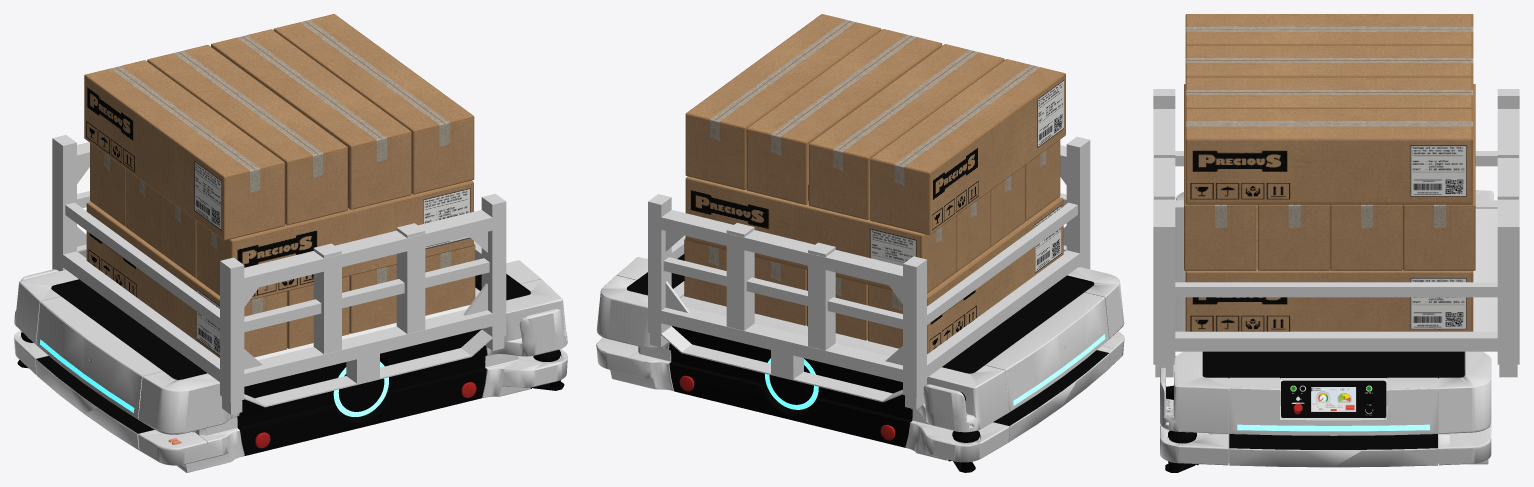
File: IndustrialAGV.glb
The picture shows the model from 3 angles, left to right: view 1: azimuth 30°, elevation 25°; view 2: azimuth 150°, elevation 25°; view 3: azimuth 270°, elevation 25°; orthographic projection. The views are drawn at different scales.
Visible parts, largest first — view 1: Package Set (7), geo_orange_1, geo_aluminium_3, geo_black_matte_1, Cube.005, Cube.001, geo_black_7, geo_light_cyan_1, Cube.002; view 2: Package Set (7), geo_orange_1, geo_aluminium_3, geo_black_matte_1, Cube.001, geo_black_7, Cube, Cube.005, geo_light_cyan_1; view 3: Package Set (7), geo_aluminium_3, geo_orange_1, geo_black_7, Cube.005, Cube.003, geo_black_matte_1, geo_light_cyan_1, geo_black_smoke_glass_8, Cube.001.
Boxes of the visible parts, box(x1,y1,x2,y2) form: Package Set (7): box(84, 14, 475, 357); geo_orange_1: box(52, 135, 506, 414); geo_aluminium_3: box(14, 260, 567, 472); geo_black_matte_1: box(36, 329, 487, 455); Cube.005: box(65, 202, 489, 331); Cube.001: box(313, 223, 425, 354); geo_black_7: box(17, 260, 564, 390); geo_light_cyan_1: box(40, 339, 388, 416); Cube.002: box(244, 258, 489, 329); Package Set (7): box(684, 14, 1065, 353); geo_orange_1: box(648, 136, 1090, 409); geo_aluminium_3: box(596, 257, 1124, 462); geo_black_matte_1: box(669, 326, 1108, 447); Cube.001: box(726, 223, 835, 350); geo_black_7: box(627, 254, 1093, 472); Cube: box(663, 257, 902, 329); Cube.005: box(927, 195, 1077, 324); geo_light_cyan_1: box(765, 334, 1105, 409); Package Set (7): box(1184, 14, 1475, 331); geo_aluminium_3: box(1160, 190, 1493, 467); geo_orange_1: box(1153, 89, 1519, 377); geo_black_7: box(1165, 351, 1464, 472); Cube.005: box(1175, 151, 1497, 297); Cube.003: box(1175, 282, 1497, 297); geo_black_matte_1: box(1229, 434, 1437, 449); geo_light_cyan_1: box(1237, 424, 1429, 431); geo_black_smoke_glass_8: box(1311, 387, 1356, 411); Cube.001: box(1154, 146, 1518, 199).
Bounding box in the file's own units: 1.7 × 1.15 × 1.26.
11 materials, 2 textured.
